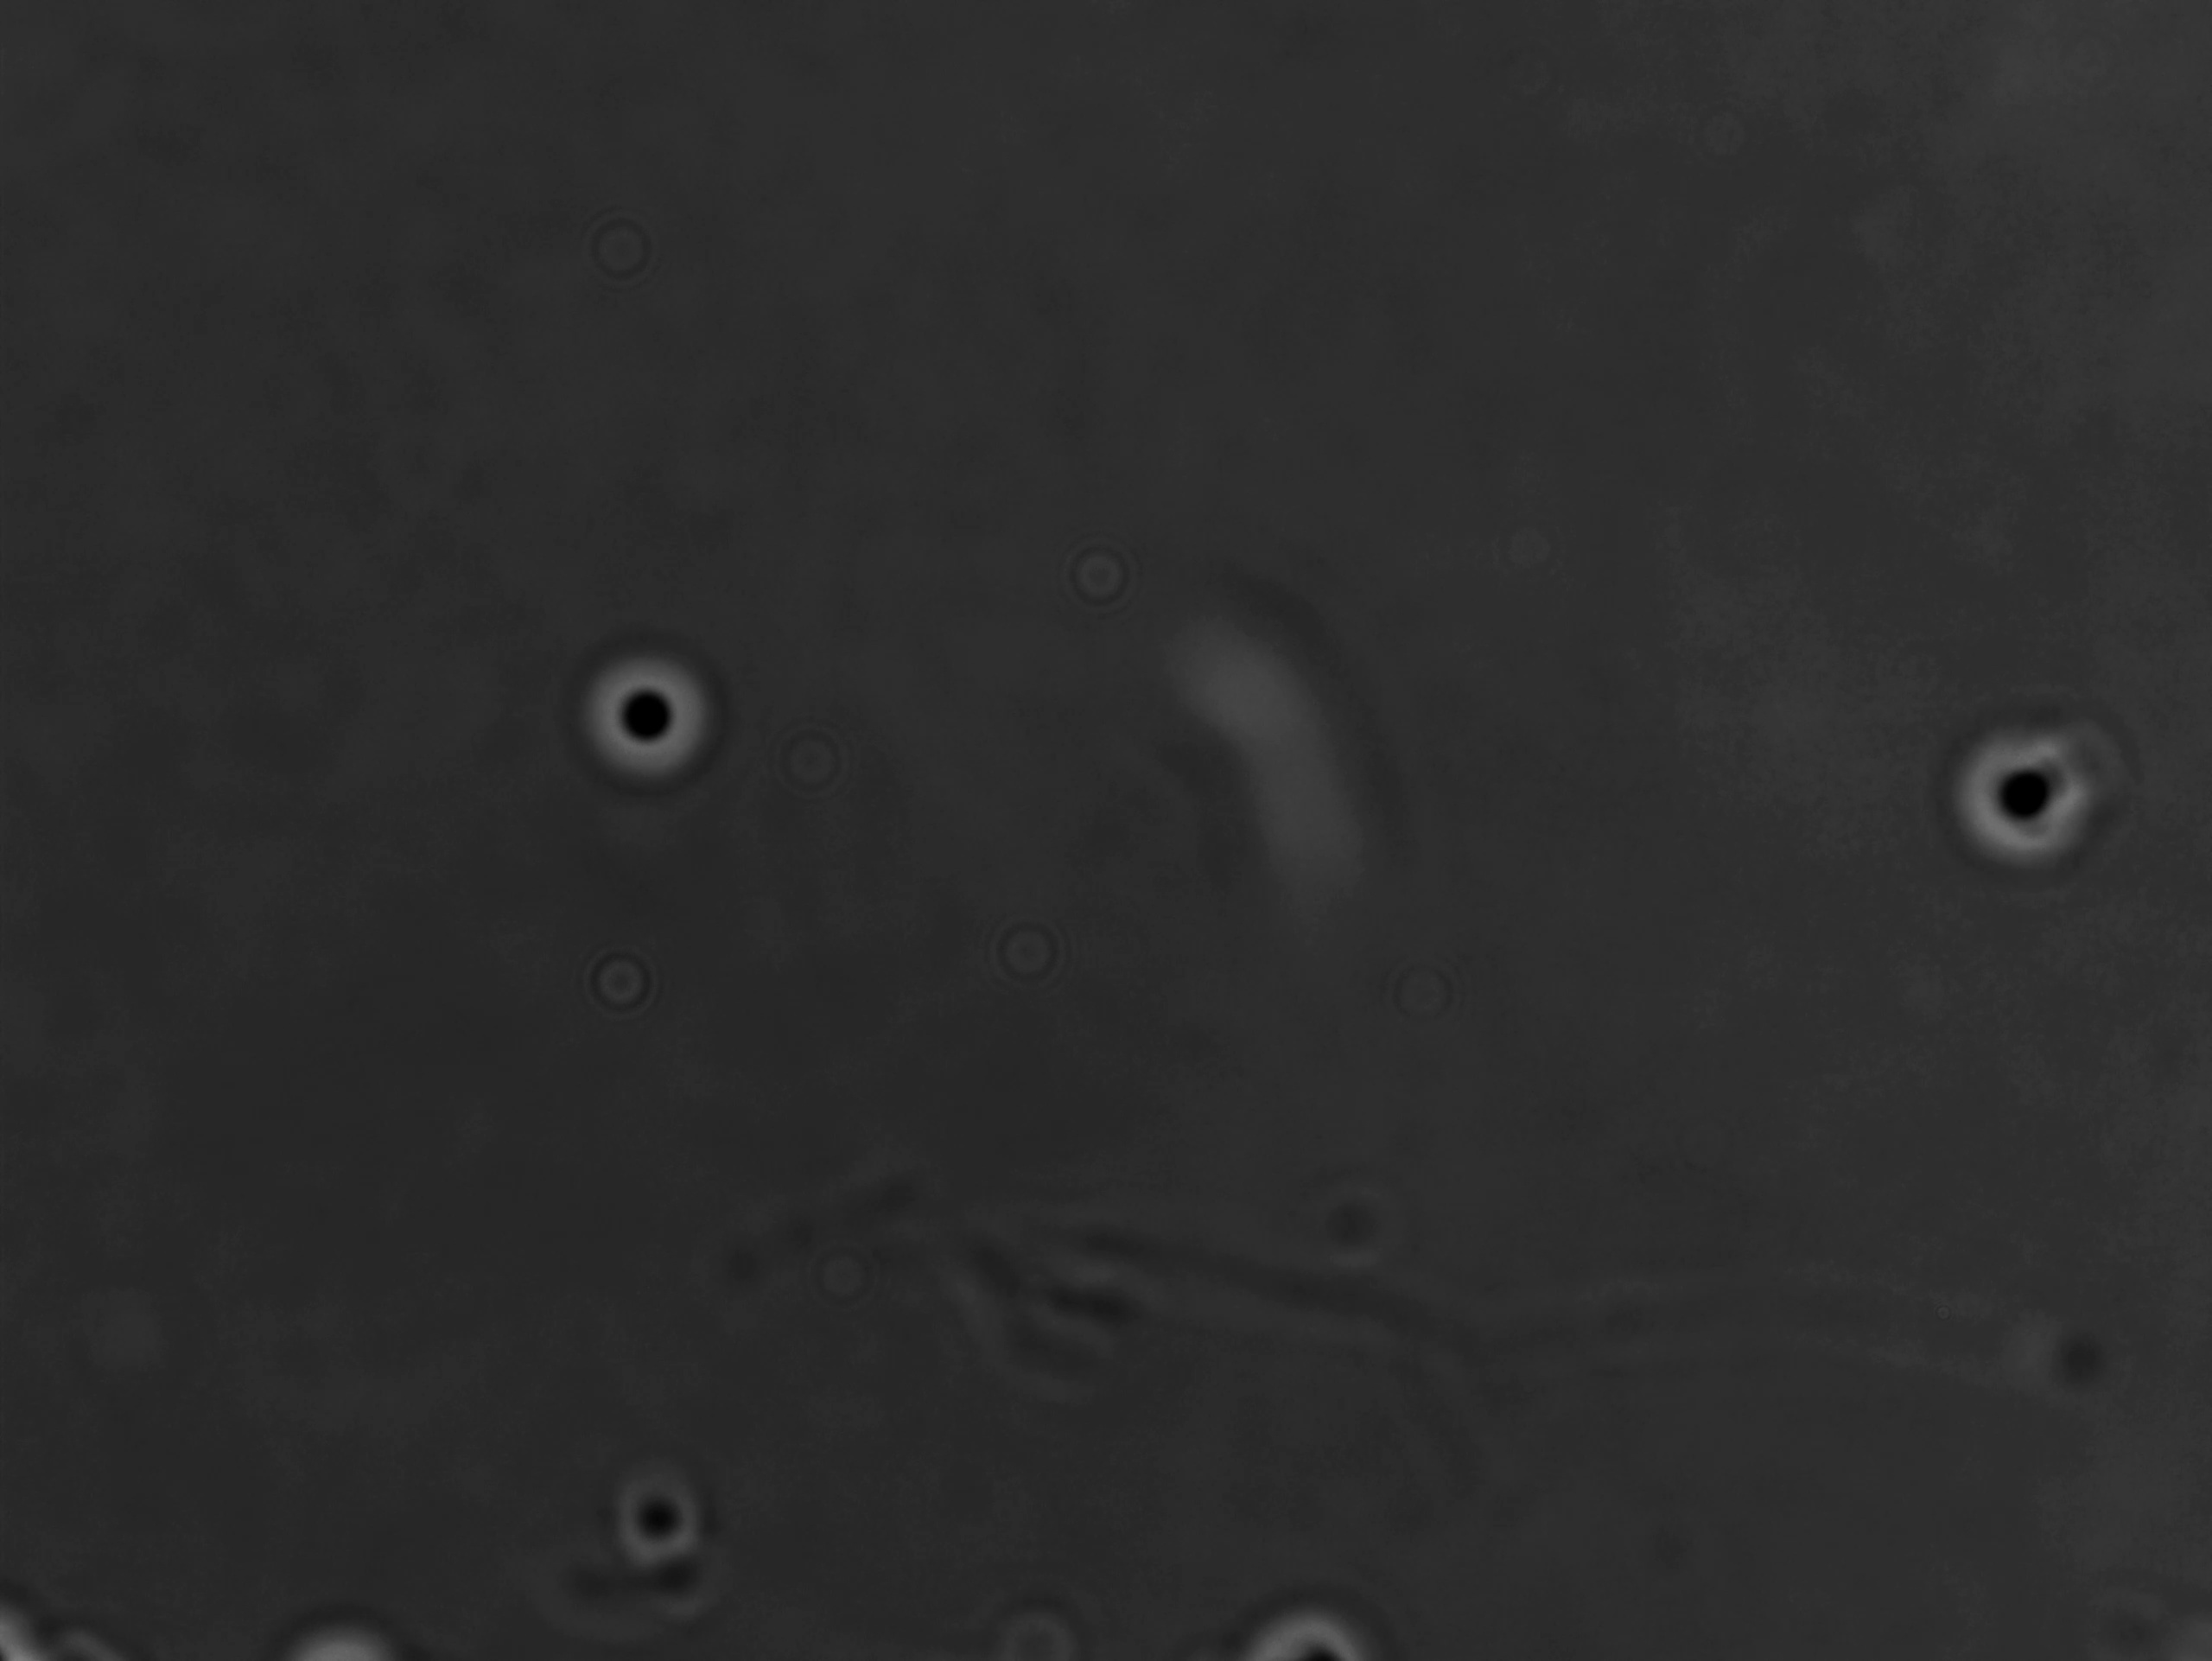depth:-40: (574, 635, 736, 796)
